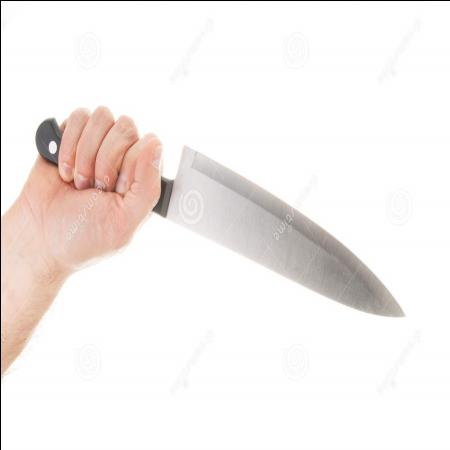long weapon: (69, 106, 414, 328)
